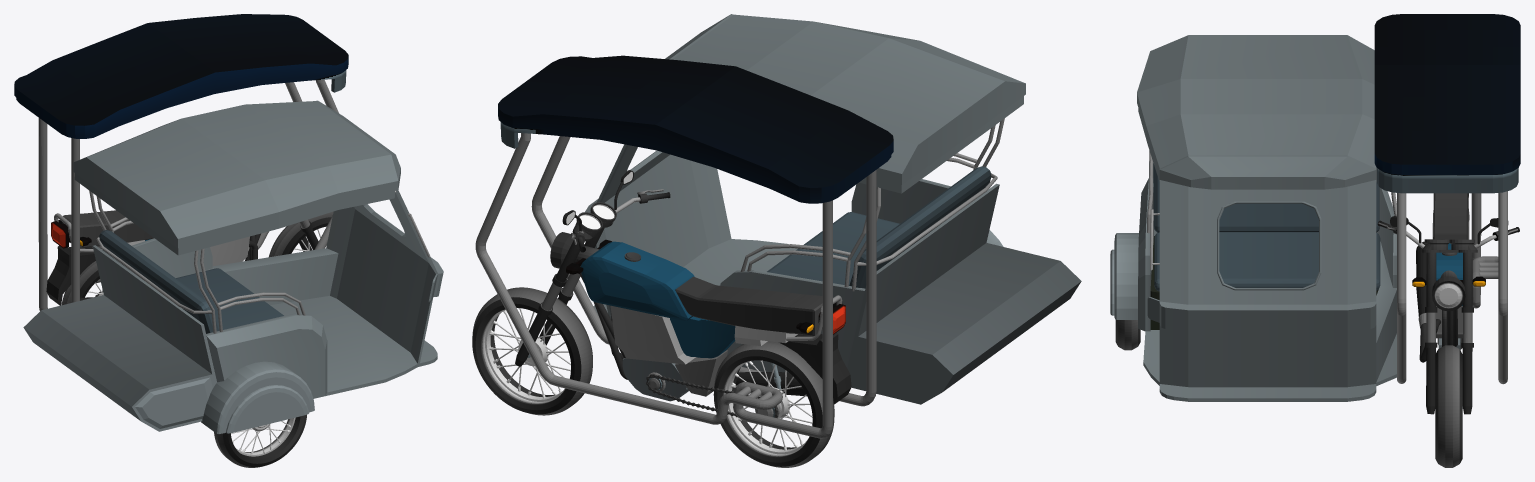
File: Tricycle_Vehicle.glb
3 renders of one model, left to right at view 1: azimuth 30°, elevation 25°; view 2: azimuth 150°, elevation 25°; view 3: azimuth 270°, elevation 25°, orthographic. The views are drawn at different scales.
Visible parts, largest first — view 1: Sidecar; view 2: Sidecar; view 3: Sidecar.
Boxes of the visible parts, x1,y1,x2,y2 form: Sidecar: (14,14,443,467); Sidecar: (472,14,1081,467); Sidecar: (1110,14,1520,467).
Size of the model in its own units: 7.64 by 5.87 by 6.72.
Materials: 50 (50 with a texture image).
